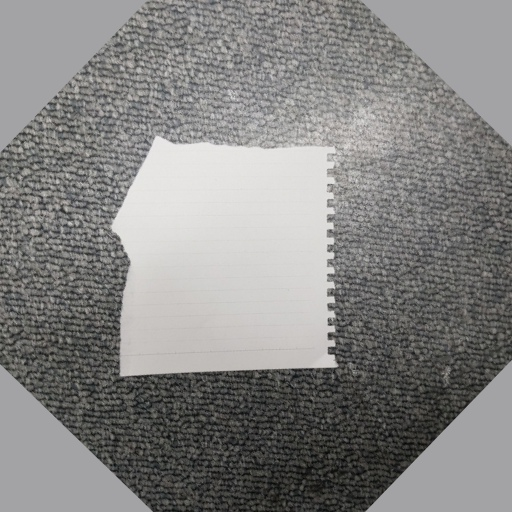Paper_2: (101, 132, 361, 386)
